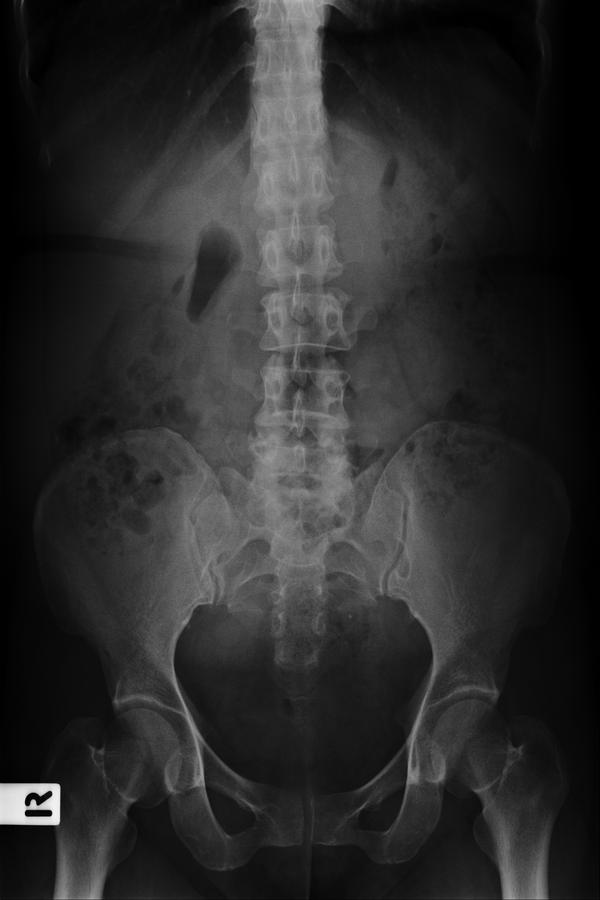lumbar scoliosis: (248, 8, 366, 539)
